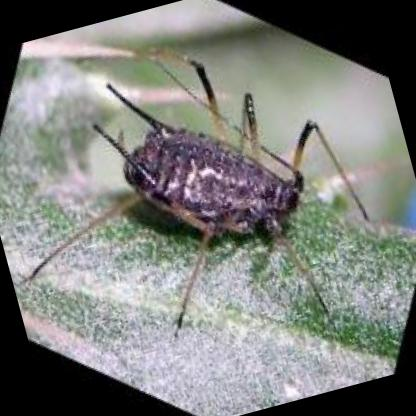uroleucon compositae: (94, 65, 317, 244)
